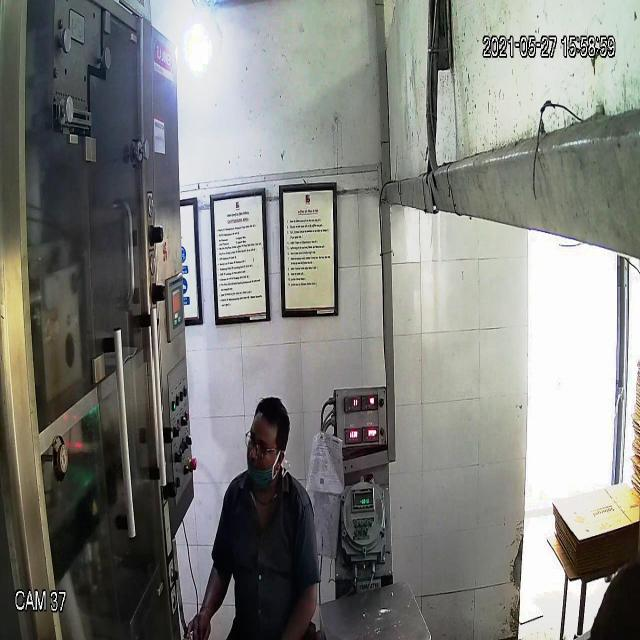glasses: (242, 426, 290, 464)
